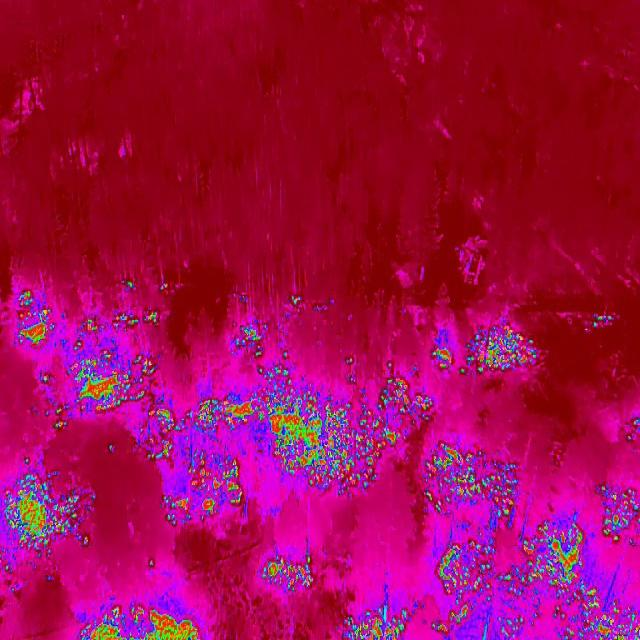fire: (152, 369, 438, 533), (432, 519, 640, 640), (5, 460, 100, 572), (428, 432, 532, 527), (40, 350, 158, 430), (458, 318, 552, 380), (74, 602, 208, 640), (588, 468, 640, 552), (69, 306, 171, 346), (262, 546, 320, 599), (12, 292, 58, 351), (337, 606, 410, 640), (234, 317, 276, 359), (574, 306, 626, 336), (623, 405, 640, 455), (432, 344, 454, 376), (282, 289, 308, 312), (124, 279, 139, 297), (160, 278, 174, 296), (148, 559, 156, 572)
